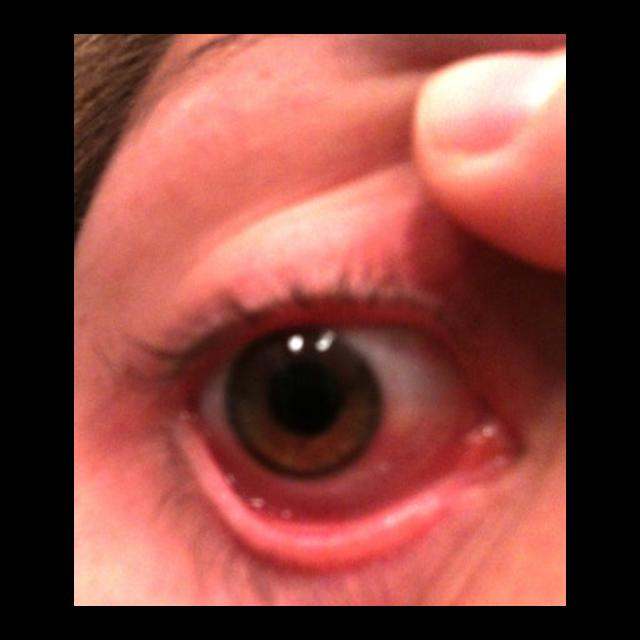eye: (197, 318, 473, 505)
iris: (225, 331, 379, 476)
